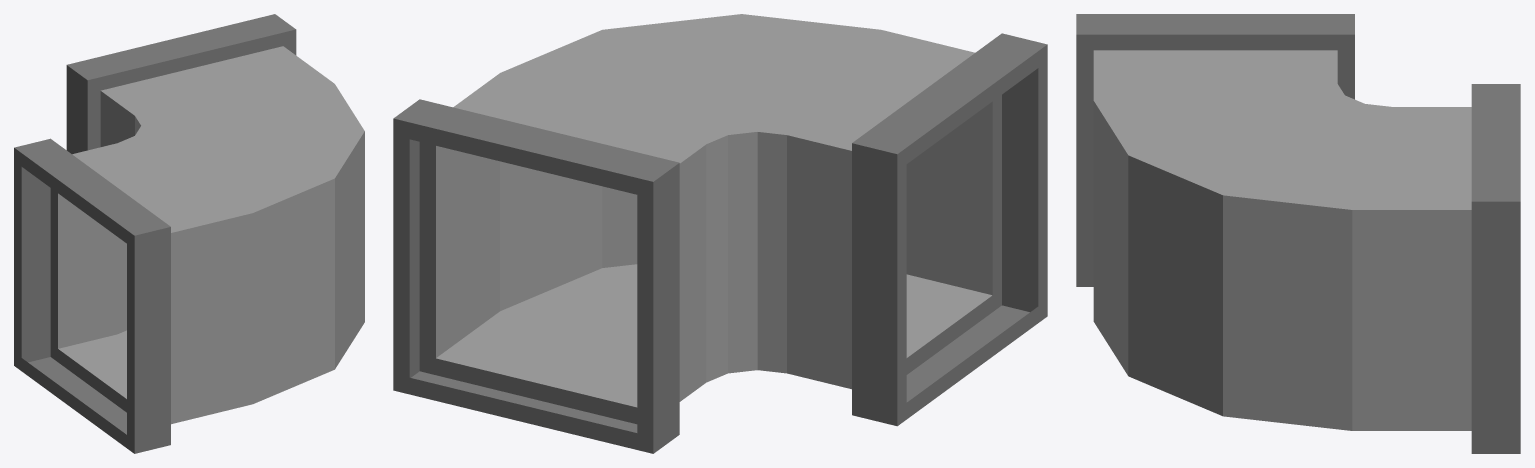
The model's file is M_RoofVent03.fbx.
3 views of the same model, side by side, from view 1: azimuth 30°, elevation 25°; view 2: azimuth 150°, elevation 25°; view 3: azimuth 270°, elevation 25° (orthographic). The views are drawn at different scales.
Parts seen in each view (by area): view 1: M_RoofVent03; view 2: M_RoofVent03; view 3: M_RoofVent03.
Part boxes in pixels (bbox=[...]): M_RoofVent03: bbox=[14, 14, 364, 453]; M_RoofVent03: bbox=[393, 14, 1047, 453]; M_RoofVent03: bbox=[1076, 14, 1520, 453].
Size of what is drawn, in the model's own units: 182 by 182 by 114.
